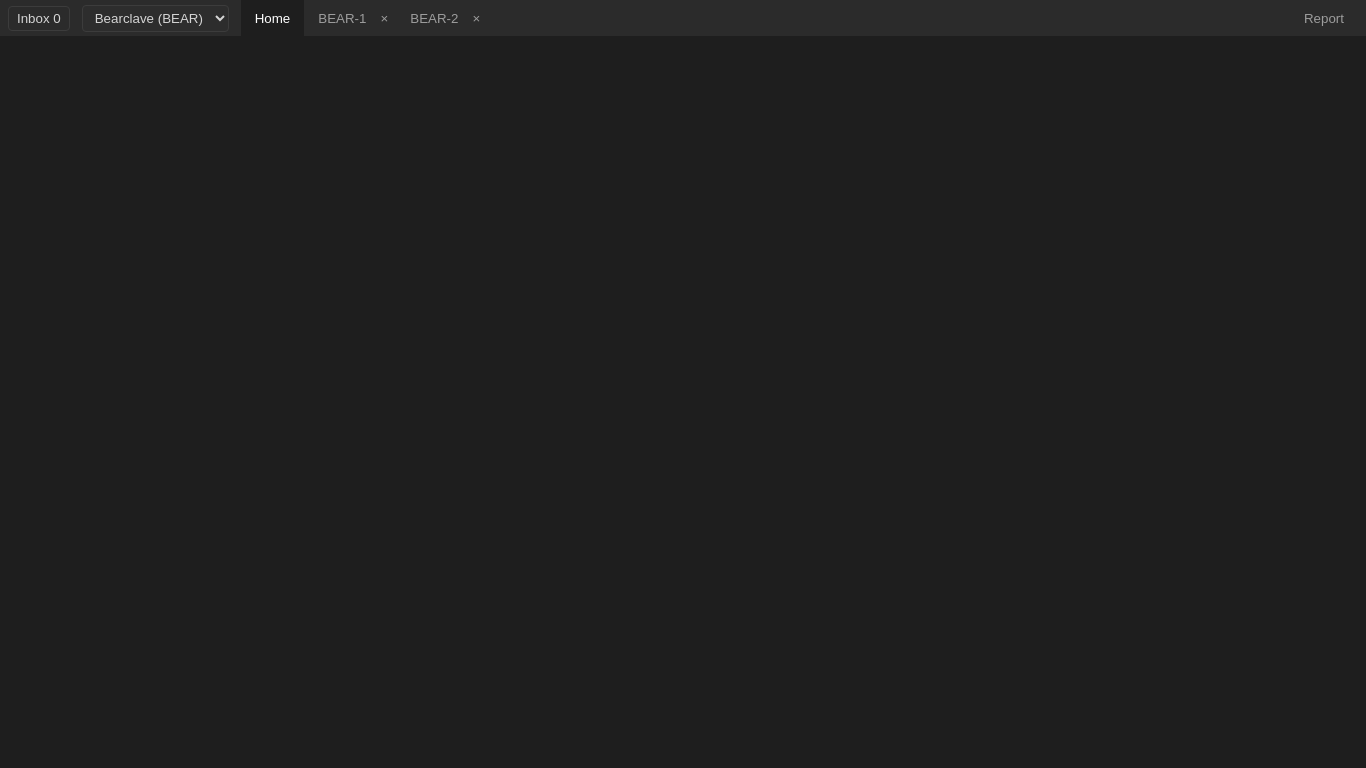
Test: TabBar › choosing Close when a working tab asks to confirm
Click the button named "Close BEAR-2".
click(480, 18)  # box [472,0,488,36]
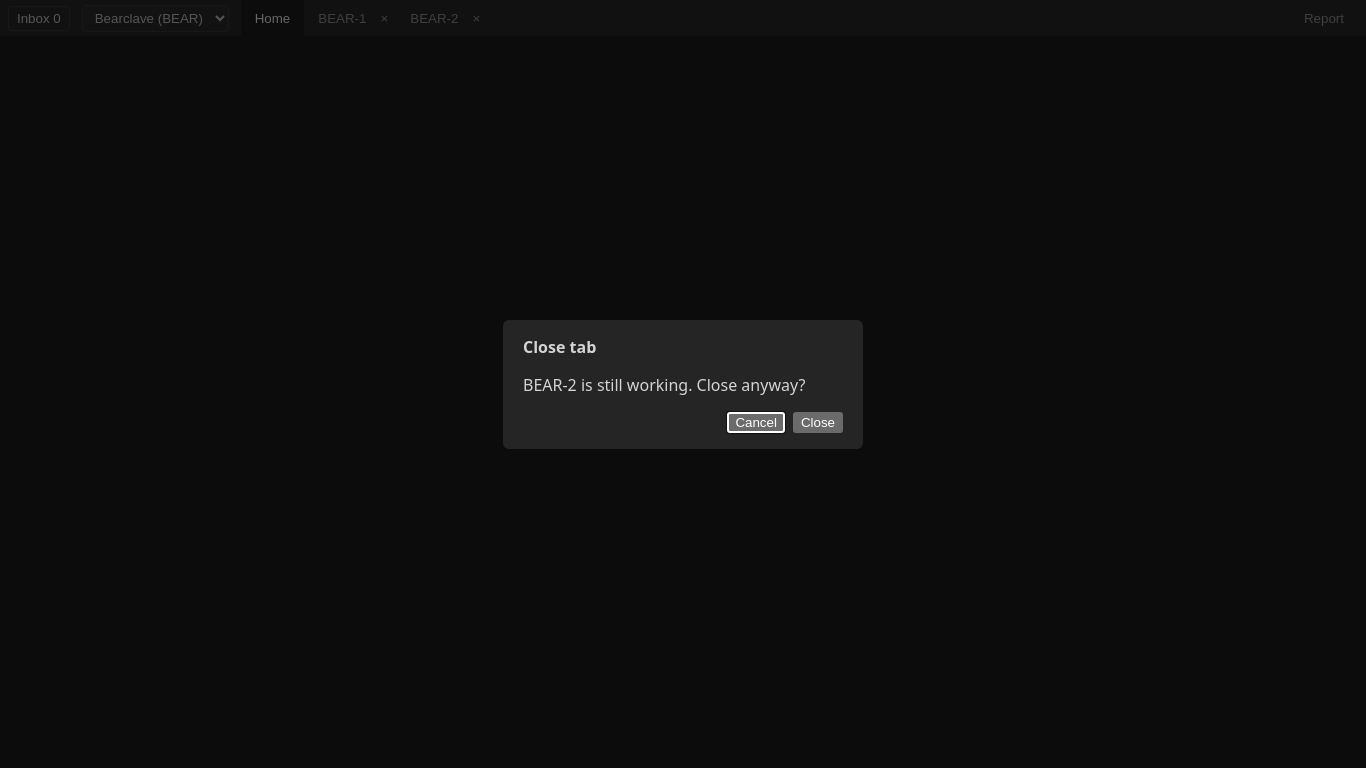
Check: the dialog shows "BEAR-2 is still working. Close anyway?", box [523,374,805,396]
Click the button "Close".
click(818, 422)  # box [793,412,843,432]
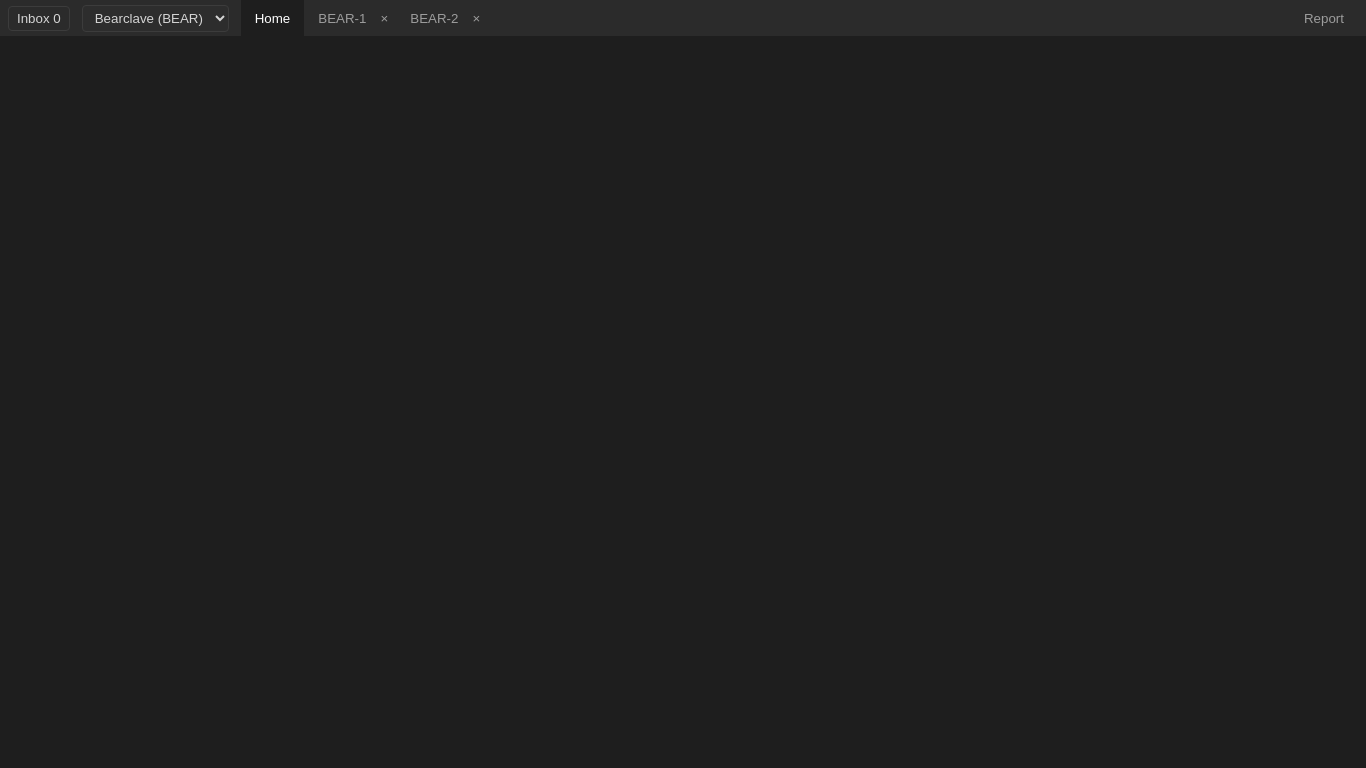
Check: the dialog is gone
